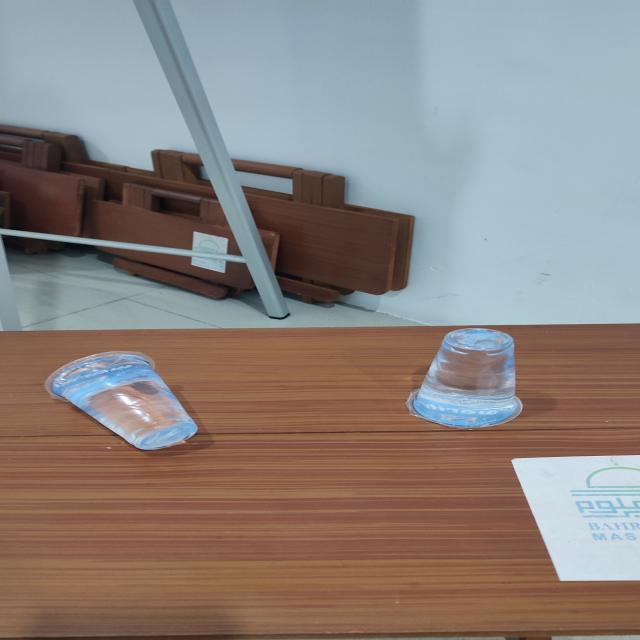air gelas: (38, 345, 209, 460), (404, 322, 528, 435)
